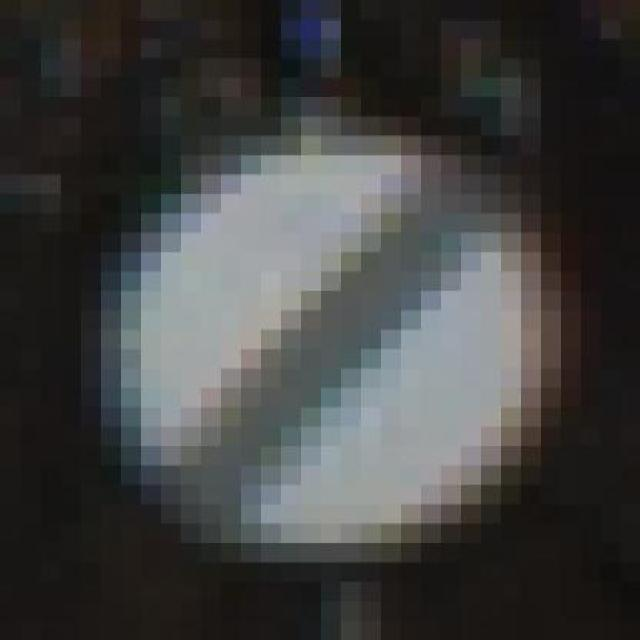End of all speed and passing limits: (100, 116, 560, 562)
